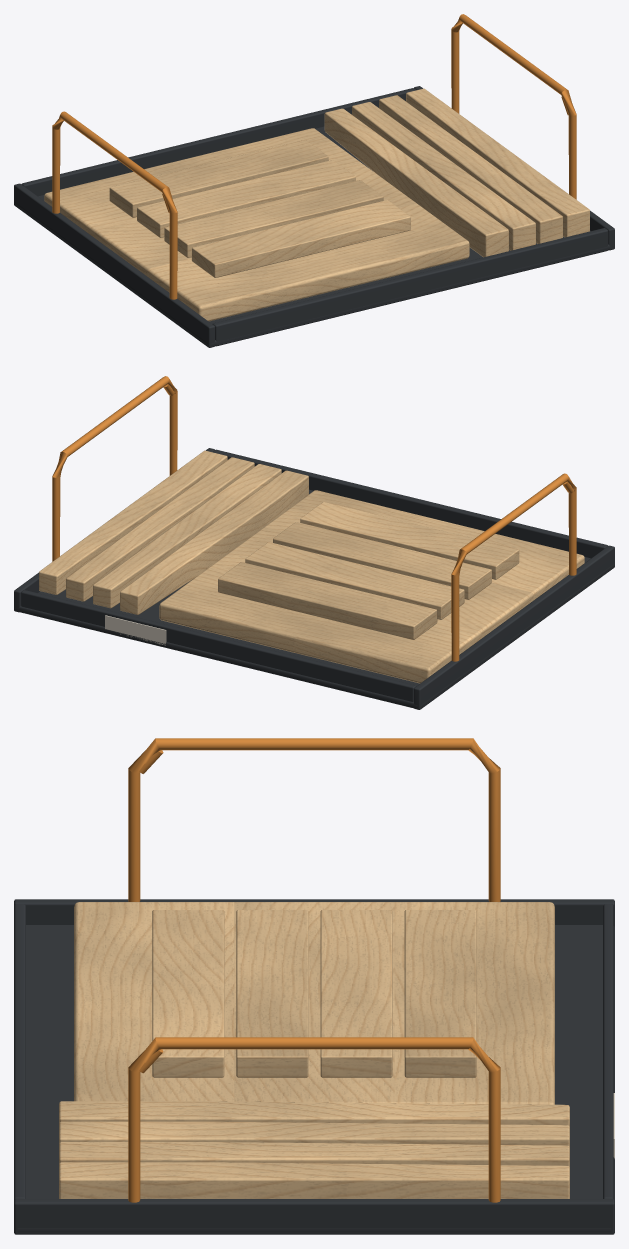
The model's file is Hocker01_Kit.fbx.
3 views of the same model, one above another, from view 1: azimuth 30°, elevation 25°; view 2: azimuth 150°, elevation 25°; view 3: azimuth 270°, elevation 25° (orthographic). The views are drawn at different scales.
Parts seen in each view (by area): view 1: Hocker01_Kit__WoodRaw, Hocker01_Kit__SteelDark, Hocker01_Kit__SafetyOrange; view 2: Hocker01_Kit__WoodRaw, Hocker01_Kit__SteelDark, Hocker01_Kit__SafetyOrange, Hocker01_Kit__WallWhite; view 3: Hocker01_Kit__WoodRaw, Hocker01_Kit__SteelDark, Hocker01_Kit__SafetyOrange.
Part boxes in pixels (x1,y1,x2,y2): Hocker01_Kit__WoodRaw: [44, 88, 589, 321]; Hocker01_Kit__SteelDark: [14, 86, 614, 347]; Hocker01_Kit__SafetyOrange: [52, 14, 576, 299]; Hocker01_Kit__WoodRaw: [39, 450, 584, 683]; Hocker01_Kit__SteelDark: [14, 448, 614, 709]; Hocker01_Kit__SafetyOrange: [52, 376, 576, 661]; Hocker01_Kit__WallWhite: [105, 615, 166, 645]; Hocker01_Kit__WoodRaw: [59, 902, 569, 1198]; Hocker01_Kit__SteelDark: [14, 899, 614, 1234]; Hocker01_Kit__SafetyOrange: [128, 738, 500, 1202].
Size of the model in its own units: 60 by 17.88 by 50.
Materials: 4 (1 with a texture image).
